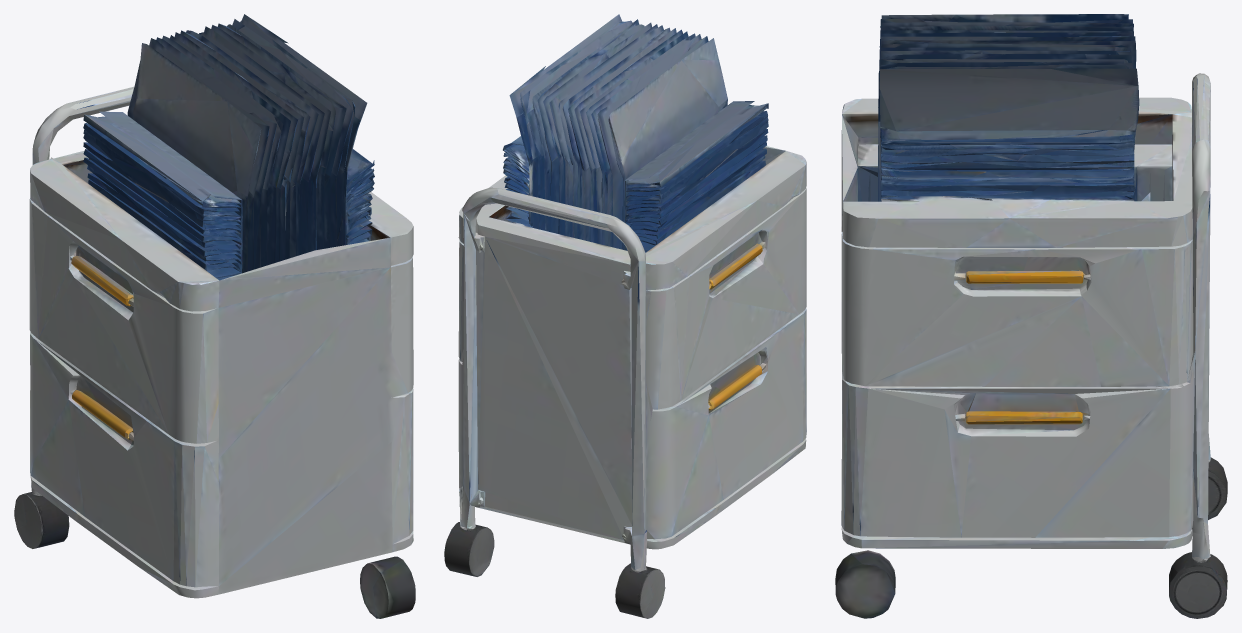
The model's file is filing-cart.gltf.
3 views of the same model, side by side, from view 1: azimuth 30°, elevation 25°; view 2: azimuth 150°, elevation 25°; view 3: azimuth 270°, elevation 25° (orthographic). The views are drawn at different scales.
Size of the model in its own units: 0.9377 by 1.9 by 1.26.
1 material, 1 textured.
